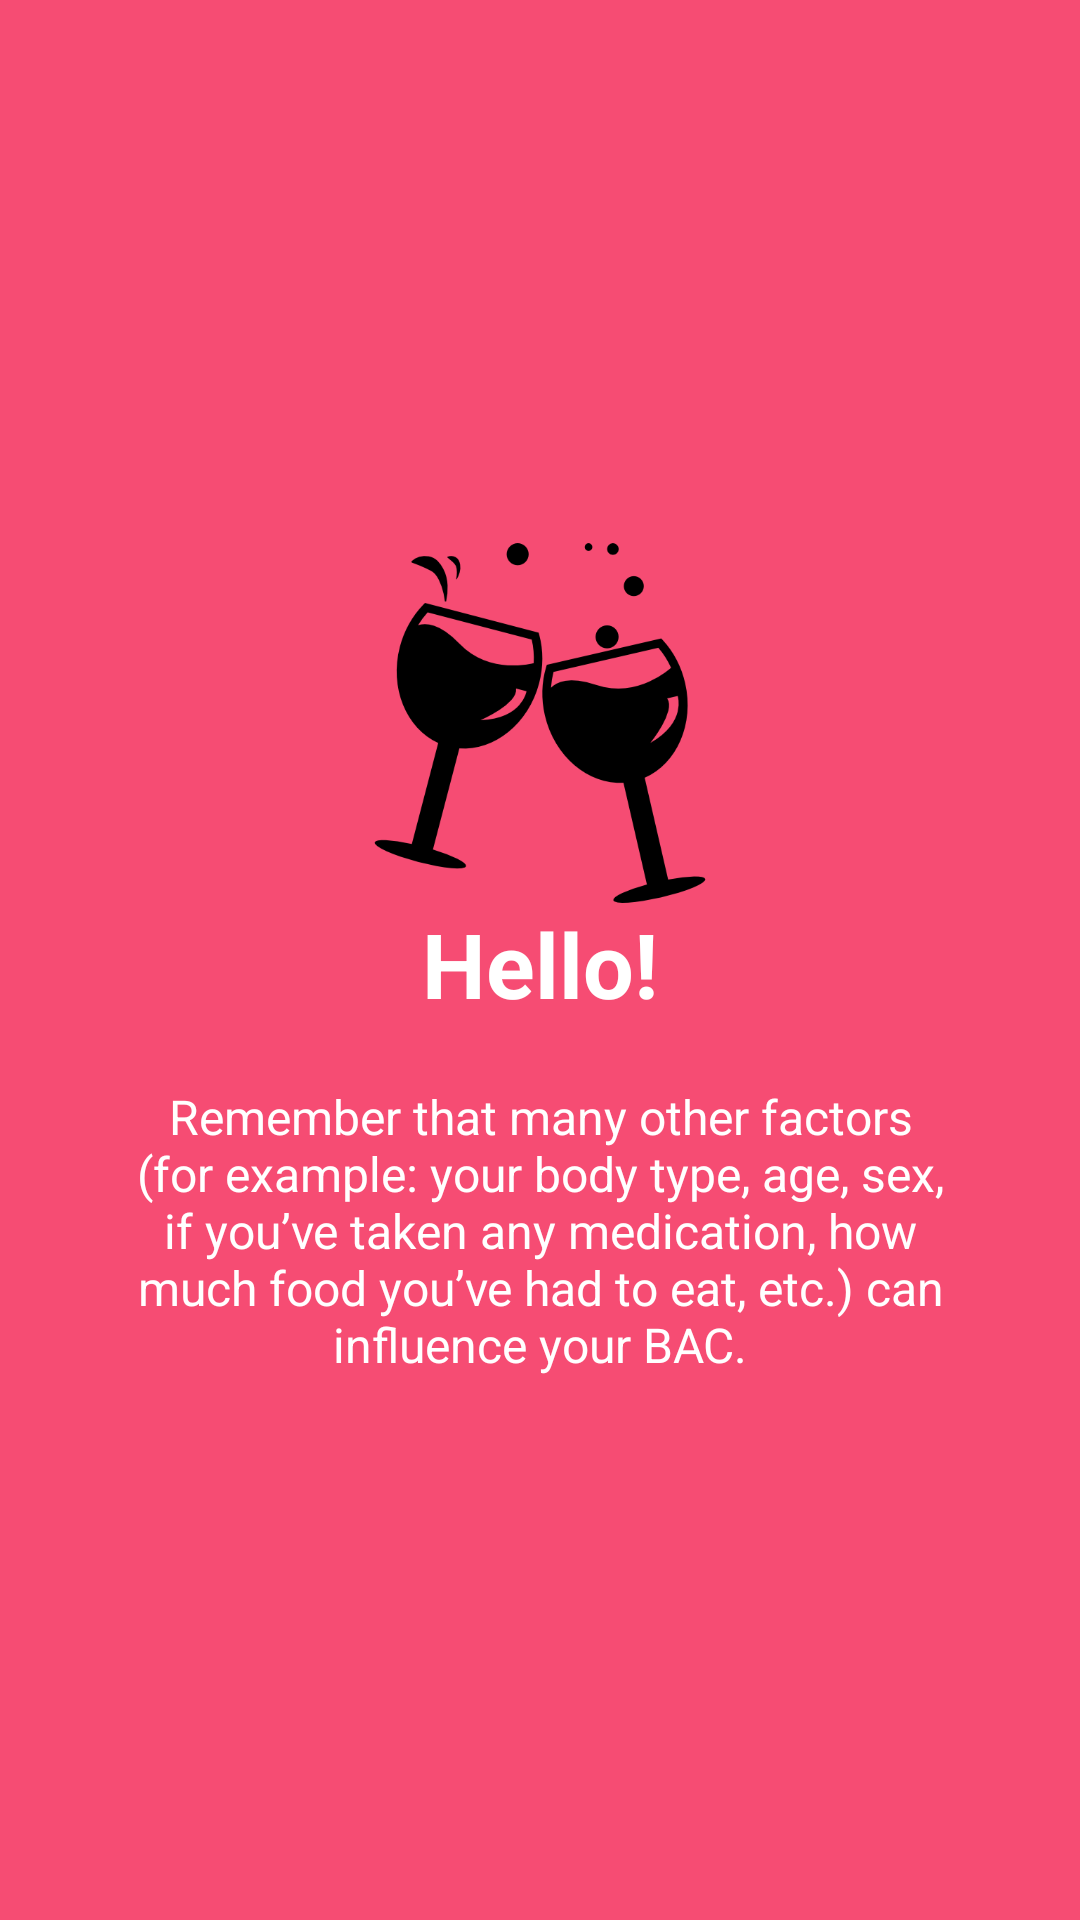

Where to tap for icons on this 1080px x 1920px app screen, as (x,y):
alkoholis: (540,723)
